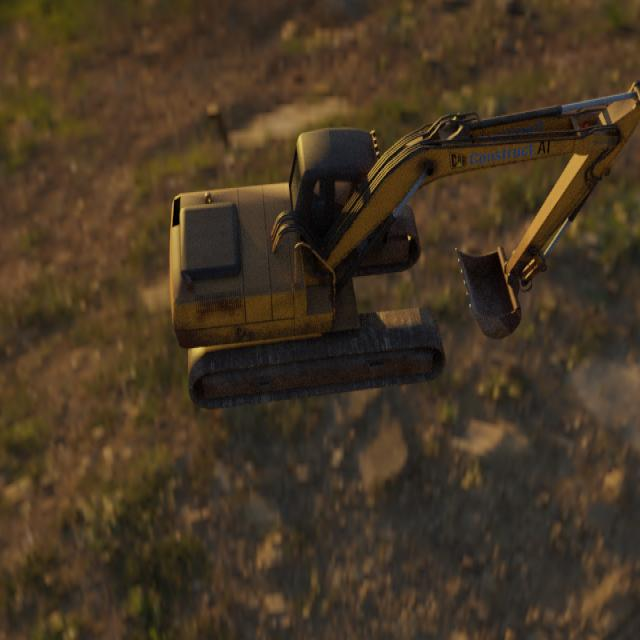excavator: (169, 79, 640, 409)
